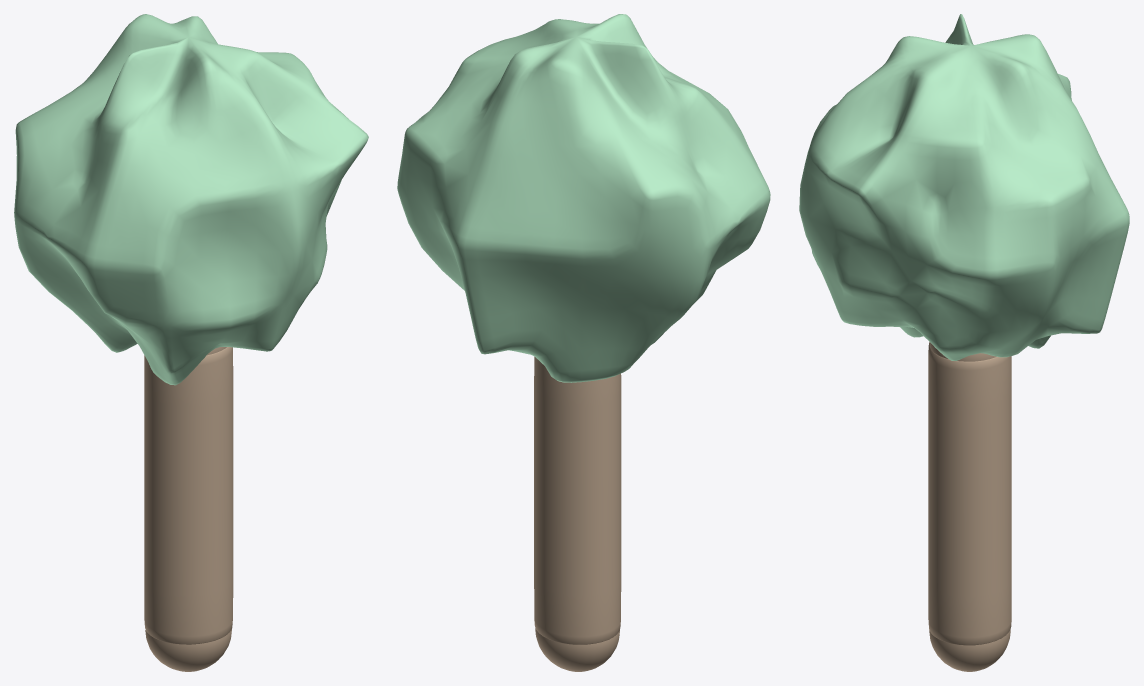
The model's file is PROP_TreeSmall_v2.glb.
3 renders of one model, left to right at view 1: azimuth 30°, elevation 25°; view 2: azimuth 150°, elevation 25°; view 3: azimuth 270°, elevation 25°, orthographic.
Visible parts, largest first — view 1: PROP_TreeSmall_v2; view 2: PROP_TreeSmall_v2; view 3: PROP_TreeSmall_v2.
Boxes of the visible parts, x1,y1,x2,y2 form: PROP_TreeSmall_v2: (14,14,368,671); PROP_TreeSmall_v2: (397,14,770,671); PROP_TreeSmall_v2: (799,14,1129,671).
Bounding box in the file's own units: 1.09 × 2.12 × 1.01.
